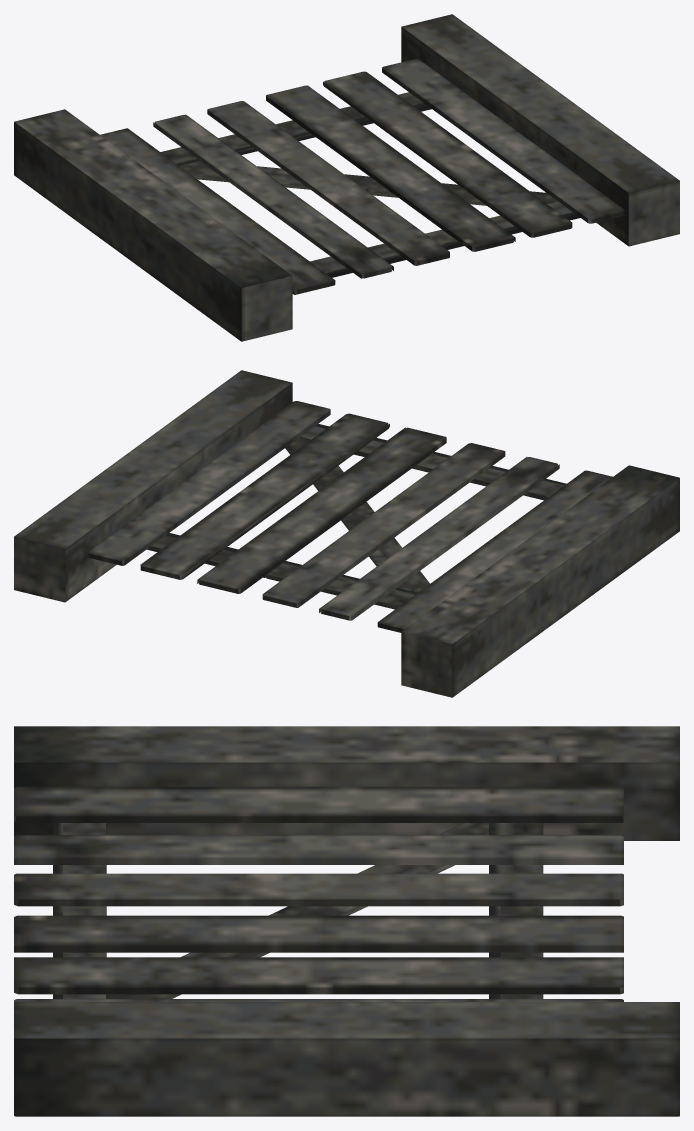
File: SM_EC_Fence_Gate_01.fbx
3 renders of one model, top to bottom at view 1: azimuth 30°, elevation 25°; view 2: azimuth 150°, elevation 25°; view 3: azimuth 270°, elevation 25°, orthographic. The views are drawn at different scales.
Visible parts, largest first — view 1: SM_EC_Fence_Gate_Door_01, SM_EC_Fence_Gate_01; view 2: SM_EC_Fence_Gate_Door_01, SM_EC_Fence_Gate_01; view 3: SM_EC_Fence_Gate_01, SM_EC_Fence_Gate_Door_01.
Boxes of the visible parts, box(x1,y1,x2,y2) form: SM_EC_Fence_Gate_Door_01: box(100, 58, 624, 294); SM_EC_Fence_Gate_01: box(14, 14, 679, 341); SM_EC_Fence_Gate_Door_01: box(88, 401, 612, 632); SM_EC_Fence_Gate_01: box(14, 370, 679, 697); SM_EC_Fence_Gate_01: box(14, 726, 679, 1116); SM_EC_Fence_Gate_Door_01: box(14, 786, 623, 1001).
Size of the model in its own units: 1.29 by 1.16 by 0.1648.
